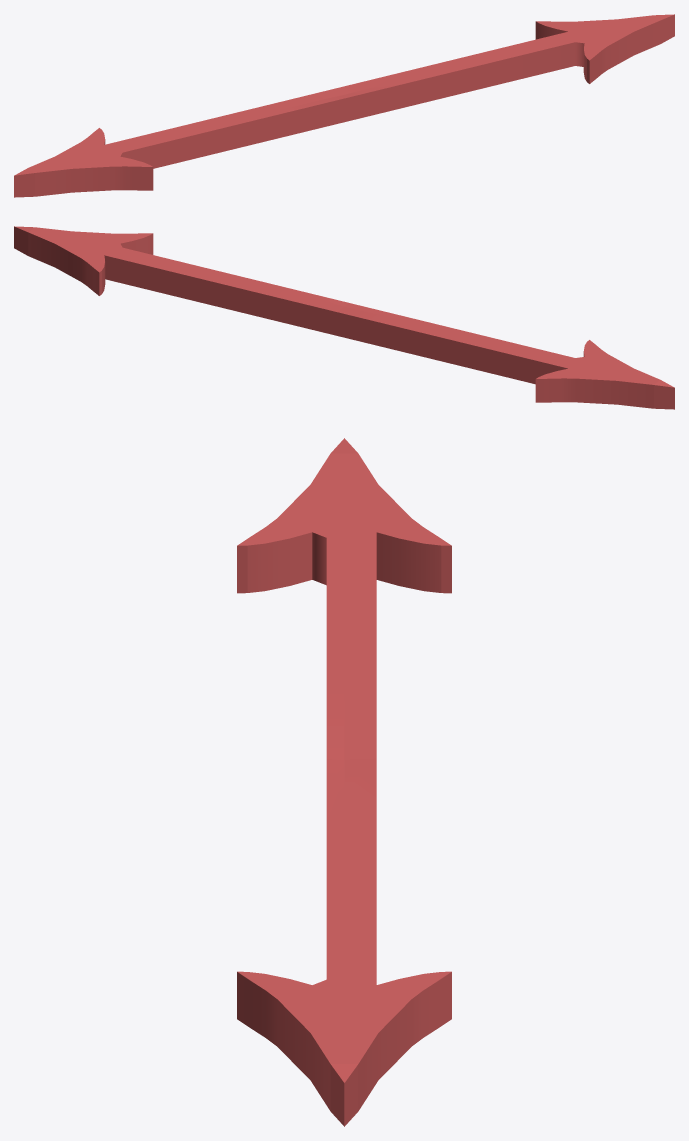
File: arrow_2.fbx
3 renders of one model, top to bottom at view 1: azimuth 30°, elevation 25°; view 2: azimuth 150°, elevation 25°; view 3: azimuth 270°, elevation 25°, orthographic. The views are drawn at different scales.
Parts seen in each view (by area): view 1: polySurface8; view 2: polySurface8; view 3: polySurface8.
Boxes of the visible parts, x1=… form: polySurface8: x1=14, y1=14, x2=674, y2=197; polySurface8: x1=14, y1=226, x2=674, y2=409; polySurface8: x1=237, y1=438, x2=451, y2=1126.
Size of the model in its own units: 18.05 by 0.6203 by 2.54.
